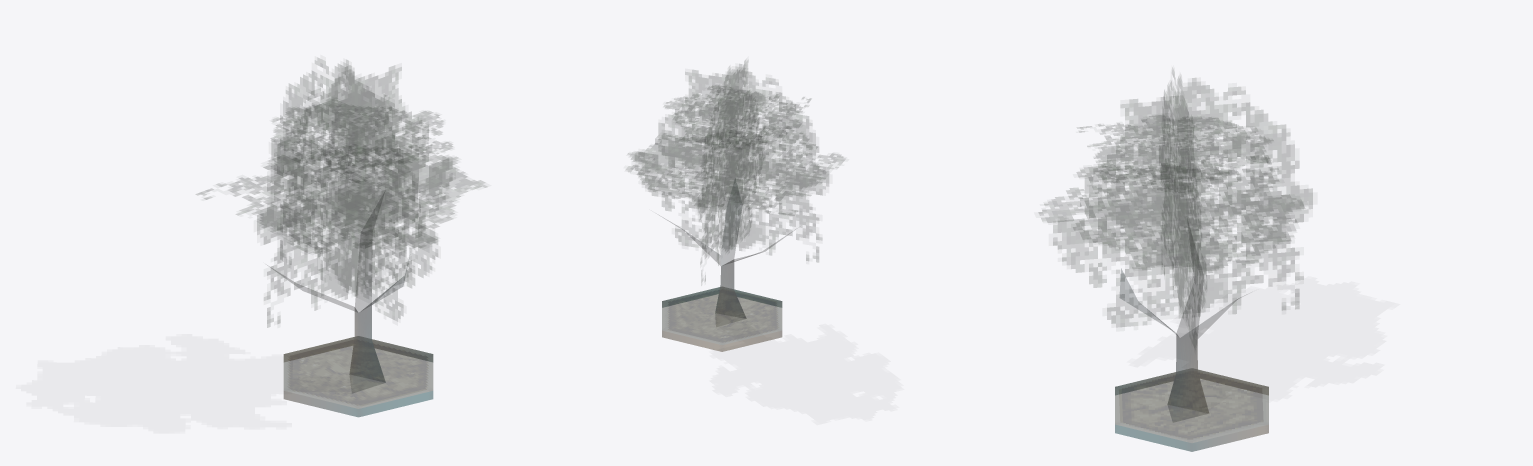
The model's file is source.glb.
3 renders of one model, left to right at view 1: azimuth 30°, elevation 25°; view 2: azimuth 150°, elevation 25°; view 3: azimuth 270°, elevation 25°, orthographic. The views are drawn at different scales.
Parts seen in each view (by area): view 1: obj_101bf10, obj_101cf80, state1_obj_101d8f0; view 2: obj_101bf10, obj_101cf80, state1_obj_101d8f0; view 3: obj_101bf10, obj_101cf80, state1_obj_101d8f0.
Part boxes in pixels (x1,y1,x2,y2): obj_101bf10: (196, 58, 486, 384); obj_101cf80: (284, 337, 432, 416); state1_obj_101d8f0: (284, 337, 432, 416); obj_101bf10: (626, 60, 844, 320); obj_101cf80: (662, 287, 781, 351); state1_obj_101d8f0: (662, 287, 781, 351); obj_101bf10: (1038, 70, 1312, 413); obj_101cf80: (1115, 370, 1268, 451); state1_obj_101d8f0: (1115, 370, 1268, 451).
Bounding box in the file's own units: 70.99 × 47.48 × 66.
Materials: 4 (4 with a texture image).
